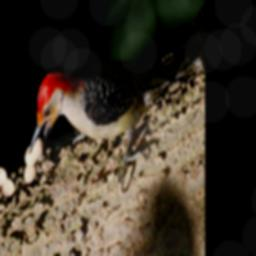Woodpecker: (16, 5, 189, 247)
